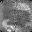people: (2, 19, 14, 29)
